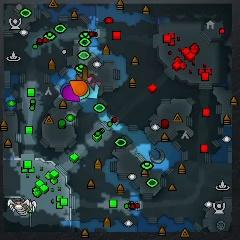p1: (61, 83, 71, 93)
p2: (80, 87, 90, 100)
p3: (63, 85, 79, 102)
p5: (69, 80, 88, 96)
x1: (86, 77, 101, 88)
x3: (87, 84, 99, 100)
x5: (75, 67, 94, 81)
